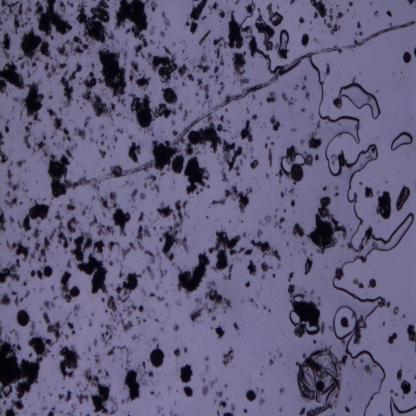Air bubble: (309, 107, 385, 188), (332, 259, 385, 345), (340, 211, 416, 264), (346, 337, 388, 415), (334, 80, 382, 120), (329, 302, 358, 342), (252, 9, 275, 53), (388, 128, 415, 152), (386, 394, 416, 414), (266, 2, 284, 27), (279, 28, 289, 53), (1, 382, 13, 398)
Background material: (0, 340, 42, 398), (306, 195, 346, 251), (160, 201, 190, 263), (76, 2, 112, 44), (35, 0, 72, 39), (286, 297, 322, 337), (210, 230, 240, 276), (76, 254, 108, 297), (177, 251, 210, 292), (114, 2, 150, 39), (100, 49, 128, 95), (100, 310, 132, 347), (183, 156, 213, 193), (20, 29, 53, 62), (213, 186, 255, 211), (24, 80, 44, 124), (136, 224, 158, 262), (86, 93, 116, 120), (250, 239, 283, 263), (0, 60, 24, 93), (148, 51, 178, 75), (221, 140, 245, 170), (228, 10, 245, 50), (90, 385, 112, 414), (42, 311, 62, 342), (203, 288, 232, 308), (200, 126, 222, 152), (0, 258, 22, 284), (151, 143, 174, 166), (58, 77, 74, 110), (376, 190, 392, 223), (126, 368, 140, 403), (207, 115, 231, 133), (395, 186, 411, 212), (143, 173, 163, 193), (189, 1, 208, 22), (89, 219, 115, 234), (197, 77, 212, 102), (240, 117, 254, 143), (212, 35, 227, 59), (73, 232, 93, 250), (83, 368, 100, 389), (309, 1, 328, 19), (97, 192, 116, 210), (354, 317, 365, 348), (12, 240, 29, 260), (50, 178, 67, 198), (233, 51, 247, 75), (62, 270, 72, 303), (117, 343, 131, 366), (115, 286, 131, 306), (54, 362, 74, 378), (23, 4, 35, 30), (108, 394, 122, 416), (198, 28, 214, 47), (157, 102, 173, 121), (140, 360, 156, 379), (0, 0, 13, 23), (300, 73, 311, 100), (22, 124, 33, 151), (49, 109, 63, 130), (68, 62, 82, 83), (188, 306, 206, 322), (129, 142, 141, 166), (56, 230, 70, 250), (222, 347, 235, 368), (120, 242, 136, 259), (128, 188, 138, 215), (200, 352, 212, 374), (0, 32, 11, 56), (2, 192, 18, 208), (74, 38, 88, 56), (134, 73, 152, 87), (39, 202, 52, 221), (66, 216, 79, 235), (42, 64, 58, 79), (285, 146, 297, 166), (218, 166, 230, 185), (290, 223, 305, 238), (304, 257, 314, 278), (22, 213, 33, 232), (12, 14, 22, 34), (406, 323, 416, 343), (53, 211, 64, 229), (247, 260, 258, 278), (136, 312, 150, 326), (186, 19, 200, 33), (44, 148, 58, 162), (197, 62, 211, 76), (352, 278, 367, 291), (106, 239, 119, 254), (74, 126, 87, 141), (269, 116, 282, 131), (62, 148, 74, 164), (325, 22, 341, 34), (129, 96, 141, 112), (215, 321, 225, 340), (0, 208, 7, 235), (25, 59, 33, 82), (57, 44, 70, 58), (9, 327, 22, 341), (92, 240, 106, 253), (281, 91, 295, 104), (12, 398, 25, 412), (74, 392, 89, 404), (0, 148, 11, 164), (159, 263, 169, 280), (10, 290, 20, 307), (216, 398, 230, 410), (148, 26, 156, 47), (143, 125, 155, 139), (42, 298, 56, 310), (29, 241, 40, 256), (135, 44, 144, 62), (161, 11, 171, 27), (38, 248, 48, 264), (150, 292, 166, 302), (66, 403, 78, 416), (285, 283, 297, 296), (0, 294, 12, 307), (129, 59, 140, 73), (5, 2, 22, 11), (365, 225, 375, 240), (144, 265, 154, 280), (36, 139, 48, 151), (160, 44, 172, 56), (67, 320, 76, 336), (64, 129, 73, 145), (148, 337, 159, 350), (30, 267, 43, 278), (330, 152, 340, 166), (209, 376, 219, 390), (365, 186, 375, 200), (260, 261, 270, 275), (334, 266, 344, 280), (338, 356, 348, 370), (179, 62, 188, 77), (65, 389, 74, 404), (107, 296, 116, 311), (396, 365, 403, 384), (18, 290, 29, 302), (6, 180, 19, 190), (72, 301, 82, 314), (150, 0, 160, 13), (274, 170, 283, 184), (5, 166, 14, 180), (138, 209, 146, 224), (119, 224, 129, 236), (200, 385, 210, 397), (140, 190, 148, 204), (3, 408, 17, 416), (327, 6, 334, 22), (32, 226, 40, 240), (215, 388, 225, 399), (364, 365, 374, 376), (194, 294, 204, 305), (65, 258, 75, 269), (172, 347, 182, 358), (80, 204, 90, 215), (84, 88, 93, 100), (266, 95, 278, 104), (206, 280, 215, 292), (3, 122, 12, 134), (30, 322, 37, 337), (118, 94, 126, 107), (324, 60, 330, 77), (106, 346, 116, 356), (18, 157, 28, 167), (37, 356, 48, 365), (57, 0, 66, 11), (16, 184, 28, 192), (310, 36, 322, 44), (5, 239, 13, 251), (43, 236, 50, 249), (99, 150, 108, 160), (272, 213, 278, 228), (218, 81, 224, 96), (212, 65, 221, 75), (219, 10, 228, 20), (252, 160, 260, 171), (172, 323, 180, 334), (279, 215, 287, 226), (245, 27, 251, 41), (333, 186, 340, 198), (115, 127, 124, 136), (246, 3, 254, 13), (222, 411, 238, 416), (46, 349, 56, 357), (250, 298, 258, 308), (222, 272, 232, 280), (296, 16, 306, 24), (56, 62, 66, 70), (336, 11, 346, 19), (137, 303, 145, 313), (67, 205, 77, 213), (320, 321, 326, 334), (8, 215, 14, 228), (259, 366, 266, 377), (245, 280, 252, 291), (31, 60, 40, 68), (212, 3, 220, 12), (84, 116, 90, 128), (279, 51, 288, 59), (21, 275, 27, 287), (240, 77, 249, 85), (232, 322, 240, 331), (390, 388, 399, 396), (344, 403, 350, 414), (142, 37, 148, 48), (388, 334, 394, 345), (92, 338, 98, 349), (181, 345, 189, 353), (0, 130, 4, 146), (48, 408, 56, 416), (57, 392, 65, 400), (187, 73, 194, 82), (386, 10, 393, 19), (17, 344, 24, 353), (94, 354, 101, 363), (310, 130, 317, 139), (279, 385, 286, 394), (288, 186, 294, 196), (264, 170, 270, 180), (280, 190, 286, 200), (380, 318, 386, 328), (300, 406, 306, 416), (130, 335, 140, 341), (191, 59, 196, 71), (356, 20, 362, 30), (84, 77, 90, 87), (127, 133, 134, 141), (159, 30, 166, 38), (69, 250, 76, 258), (287, 272, 295, 279), (288, 200, 295, 208), (90, 60, 95, 71), (0, 400, 9, 406), (88, 319, 94, 328), (208, 5, 214, 14), (212, 314, 218, 323), (316, 121, 322, 130), (259, 396, 264, 406), (374, 10, 380, 18), (386, 300, 392, 308), (164, 303, 170, 311), (177, 102, 183, 110), (184, 111, 188, 123), (408, 0, 416, 6), (172, 128, 178, 136), (52, 140, 58, 148), (102, 132, 108, 140), (104, 374, 109, 383), (19, 109, 23, 120), (48, 94, 54, 101), (348, 1, 354, 8), (353, 38, 359, 45), (268, 359, 274, 366), (301, 105, 306, 113), (116, 112, 124, 117), (126, 214, 131, 222), (217, 408, 222, 416), (395, 306, 399, 316), (108, 258, 113, 266), (114, 136, 119, 144), (231, 403, 236, 411), (322, 184, 327, 192), (314, 154, 319, 162), (221, 53, 224, 66), (251, 146, 254, 159), (89, 137, 95, 143), (413, 46, 416, 58), (255, 385, 259, 394), (245, 107, 250, 114), (290, 0, 297, 5), (202, 55, 207, 62), (119, 272, 124, 279), (90, 71, 94, 79), (174, 108, 178, 116), (106, 144, 110, 152), (298, 140, 306, 144), (254, 113, 258, 121), (77, 381, 81, 389), (95, 138, 99, 146), (313, 338, 317, 346), (244, 407, 248, 415), (88, 345, 92, 353), (130, 116, 134, 124), (279, 351, 283, 359), (235, 0, 240, 6), (154, 318, 160, 323), (171, 120, 176, 126), (181, 49, 186, 55), (149, 392, 155, 397), (177, 300, 182, 306), (43, 135, 48, 141), (224, 383, 229, 389), (159, 236, 163, 243), (209, 204, 214, 209), (101, 141, 106, 146), (274, 208, 279, 213), (101, 296, 105, 302), (194, 92, 198, 98), (210, 325, 214, 331), (360, 30, 364, 36), (52, 285, 55, 292), (266, 136, 271, 140), (260, 388, 264, 393), (270, 142, 275, 146), (346, 8, 350, 13), (279, 408, 283, 413), (101, 125, 105, 130), (79, 411, 83, 416), (303, 352, 306, 358), (86, 413, 92, 416), (91, 313, 95, 317), (360, 358, 364, 362), (294, 86, 298, 90), (262, 306, 266, 310), (206, 214, 209, 219), (183, 82, 186, 87), (268, 308, 271, 313), (403, 312, 405, 319), (273, 272, 275, 279), (61, 410, 64, 414), (266, 144, 269, 148), (124, 116, 127, 120), (284, 208, 286, 213)
Cellulose filter fibre: (112, 207, 126, 226)
Cotton: (61, 20, 416, 190)
Diatom: (179, 364, 195, 384), (139, 106, 153, 128), (149, 348, 165, 367), (48, 161, 63, 180), (290, 164, 305, 182), (17, 309, 30, 327), (171, 156, 184, 174), (163, 87, 175, 104), (34, 340, 46, 356), (66, 352, 78, 368), (126, 275, 138, 290), (188, 130, 199, 144), (184, 385, 194, 398), (402, 51, 412, 64), (401, 381, 411, 394), (30, 206, 39, 220), (316, 381, 326, 393), (340, 316, 350, 328), (70, 287, 80, 298), (247, 390, 256, 402), (44, 266, 53, 278), (75, 250, 84, 262), (305, 153, 314, 165), (115, 164, 122, 178), (368, 277, 376, 289), (308, 137, 316, 149), (268, 147, 272, 170), (300, 34, 310, 43), (391, 330, 398, 341), (158, 67, 166, 76), (90, 78, 98, 86)
Insect matter: (288, 346, 344, 413)
